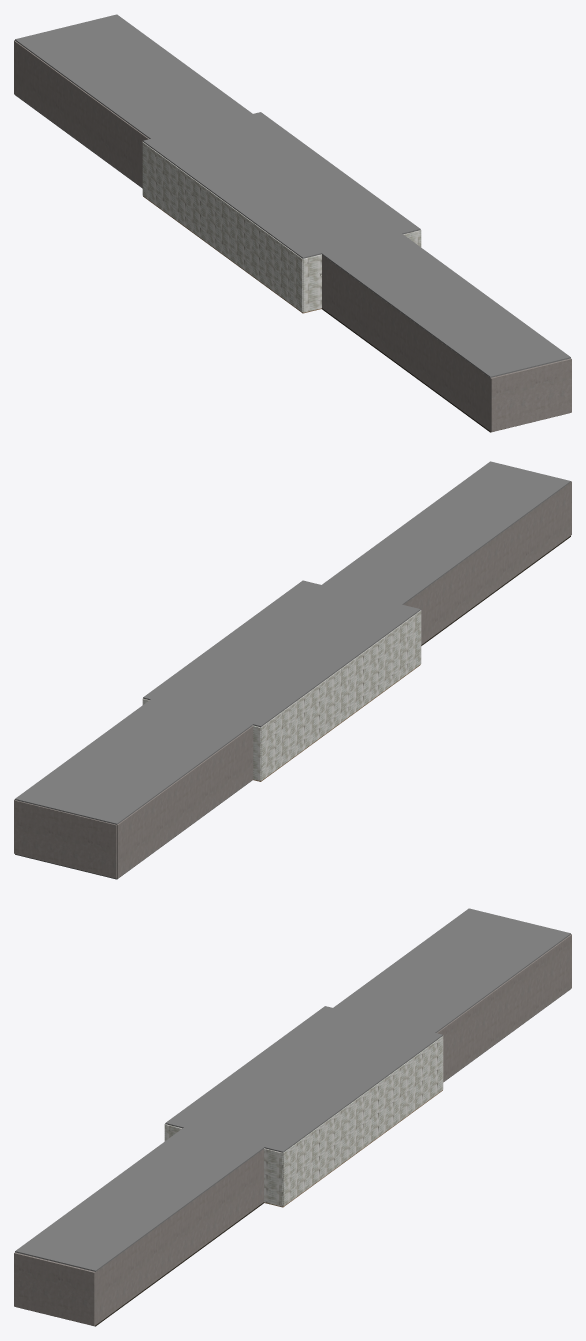
The model's file is space03.glb.
3 renders of one model, top to bottom at view 1: azimuth 30°, elevation 25°; view 2: azimuth 150°, elevation 25°; view 3: azimuth 330°, elevation 25°, orthographic.
Visible parts, largest first — view 1: space03_static; view 2: space03_static; view 3: space03_static.
Part boxes in pixels (x1,y1,x2,y2): space03_static: (14, 14, 571, 432); space03_static: (14, 461, 571, 879); space03_static: (14, 908, 571, 1326).
Size of the model in its own units: 6.06 by 2.72 by 41.15.
34 materials, 20 textured.
